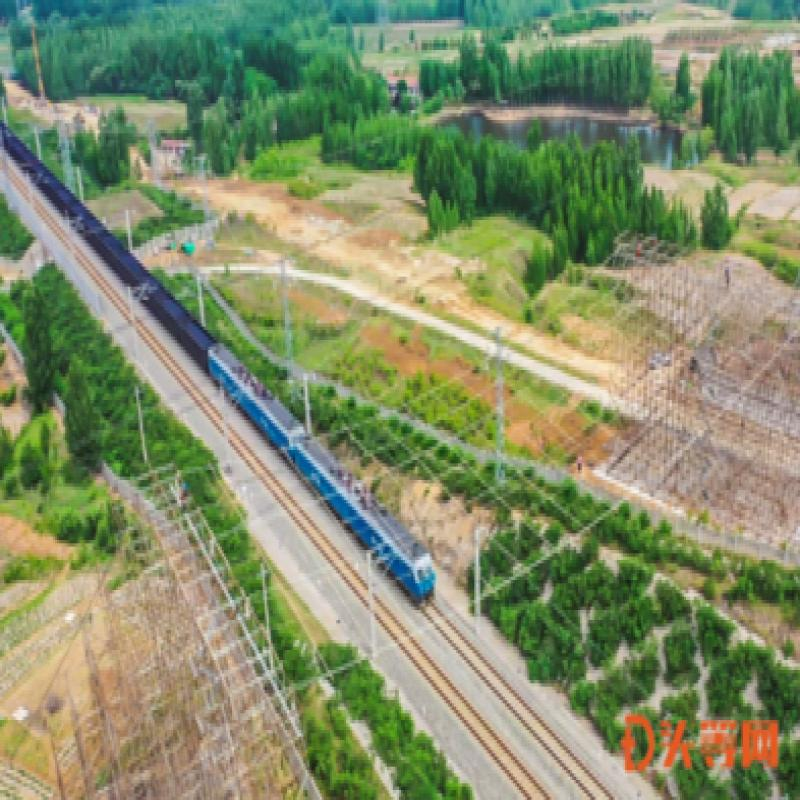train: (202, 334, 447, 618)
